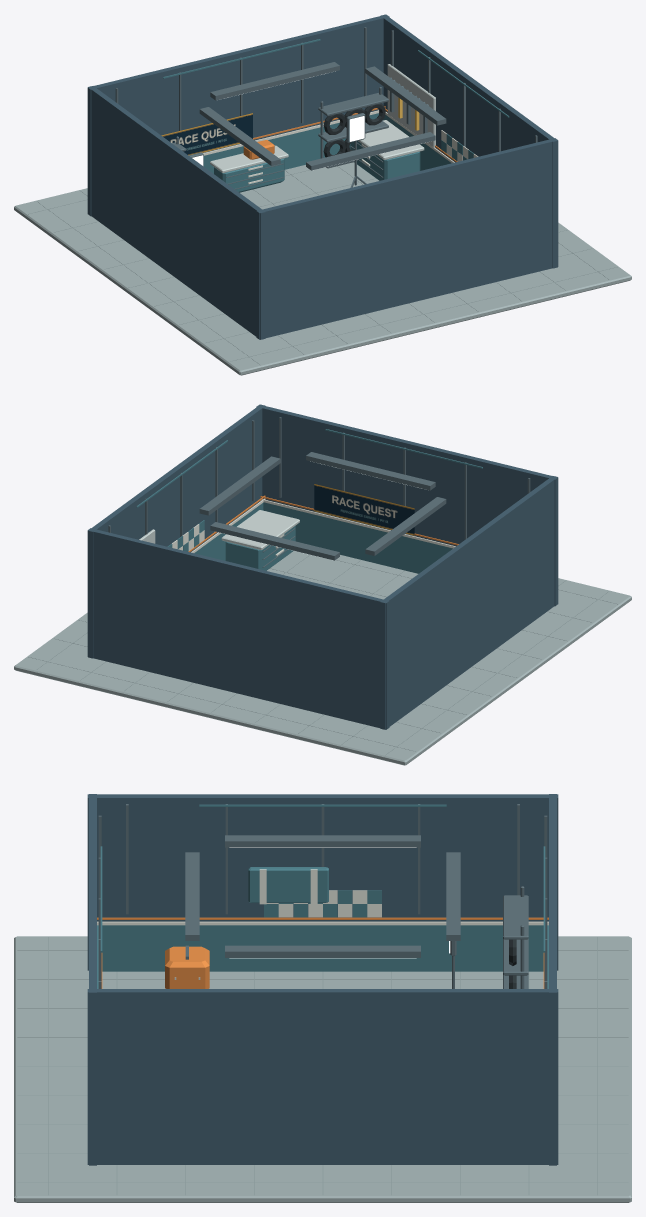
File: workshop.glb
3 views of the same model, one above another, from view 1: azimuth 30°, elevation 25°; view 2: azimuth 150°, elevation 25°; view 3: azimuth 270°, elevation 25° (orthographic). The views are drawn at different scales.
Parts seen in each view (by area): view 1: workshop_roof, workshop_rock, workshop_metal, workshop_teal, workshop_cream, race_quest_banner_0, workshop_wood, workshop_white, workshop_black, workshop_orange; view 2: workshop_roof, workshop_rock, workshop_teal, workshop_metal, race_quest_banner_1, workshop_wood, workshop_cream, workshop_white; view 3: workshop_roof, workshop_rock, workshop_teal, workshop_metal, workshop_white, workshop_orange, workshop_wood.
Boxes of the visible parts, x1=… form: workshop_roof: x1=87, y1=14, x2=558, y2=339; workshop_rock: x1=14, y1=162, x2=631, y2=375; workshop_metal: x1=115, y1=27, x2=537, y2=189; workshop_teal: x1=163, y1=39, x2=509, y2=192; workshop_cream: x1=210, y1=64, x2=435, y2=173; race_quest_banner_0: x1=161, y1=113, x2=252, y2=155; workshop_wood: x1=28, y1=166, x2=617, y2=364; workshop_white: x1=203, y1=110, x2=478, y2=184; workshop_black: x1=323, y1=103, x2=385, y2=157; workshop_orange: x1=243, y1=106, x2=457, y2=162; workshop_roof: x1=87, y1=404, x2=558, y2=729; workshop_rock: x1=14, y1=551, x2=631, y2=765; workshop_teal: x1=136, y1=429, x2=482, y2=573; workshop_metal: x1=108, y1=417, x2=530, y2=567; race_quest_banner_1: x1=314, y1=484, x2=414, y2=535; workshop_wood: x1=28, y1=555, x2=617, y2=754; workshop_cream: x1=139, y1=510, x2=299, y2=549; workshop_white: x1=172, y1=498, x2=455, y2=556; workshop_roof: x1=87, y1=794, x2=558, y2=1165; workshop_rock: x1=14, y1=936, x2=631, y2=1202; workshop_teal: x1=97, y1=804, x2=548, y2=988; workshop_metal: x1=98, y1=804, x2=547, y2=988; workshop_white: x1=97, y1=869, x2=548, y2=925; workshop_orange: x1=97, y1=917, x2=548, y2=988; workshop_wood: x1=17, y1=937, x2=628, y2=1195.
Bounding box in the file's own units: 18 × 5.78 × 18.
Materials: 12 (1 with a texture image).
